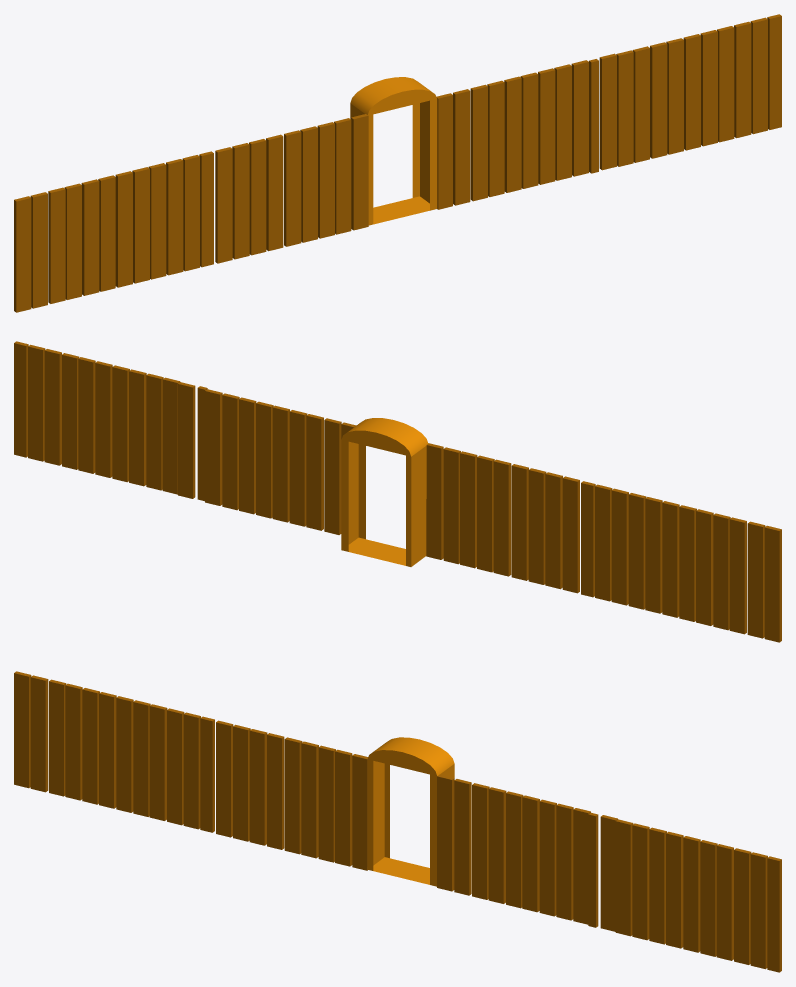
File: fencewithhole.fbx
3 renders of one model, top to bottom at view 1: azimuth 30°, elevation 25°; view 2: azimuth 150°, elevation 25°; view 3: azimuth 330°, elevation 25°, orthographic.
Visible parts, largest first — view 1: polySurface121; view 2: polySurface121; view 3: polySurface121.
Part boxes in pixels (x1,y1,x2,y2): polySurface121: (14, 14, 781, 312); polySurface121: (14, 341, 781, 642); polySurface121: (14, 671, 781, 972).
Bounding box in the file's own units: 51.11 × 8.07 × 2.21.
